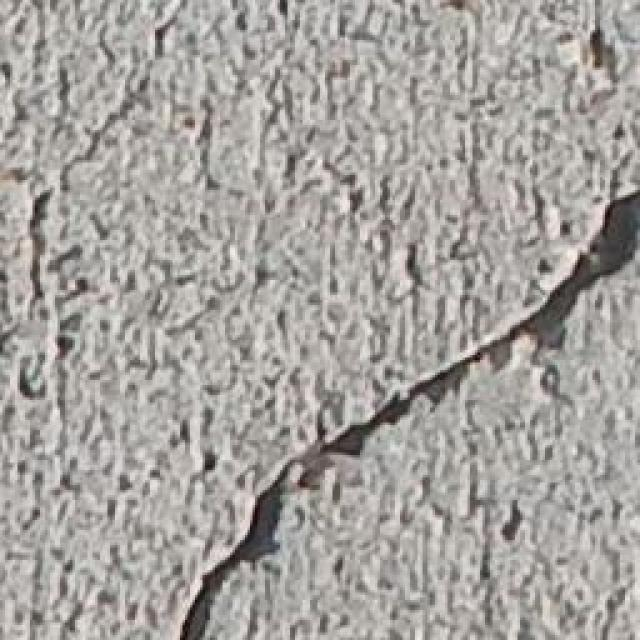concrete-crack: (173, 175, 640, 640)
